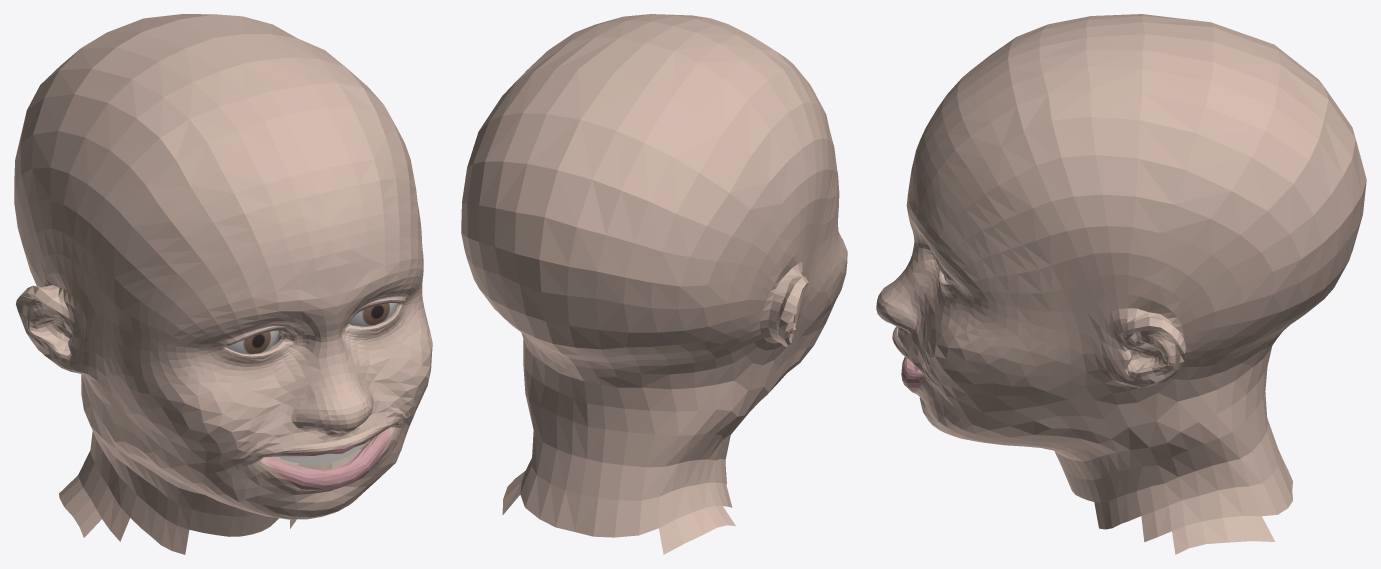
Rendered from karma_face_MH_smile_AE.glb.
3 renders of one model, left to right at view 1: azimuth 30°, elevation 25°; view 2: azimuth 150°, elevation 25°; view 3: azimuth 270°, elevation 25°, orthographic. The views are drawn at different scales.
Parts seen in each view (by area): view 1: head; view 2: head; view 3: head.
Part boxes in pixels (x1,y1,x2,y2): head: (14,14,432,554); head: (461,14,847,554); head: (876,14,1366,554).
Size of the model in its own units: 3.03 by 3.91 by 3.7.
